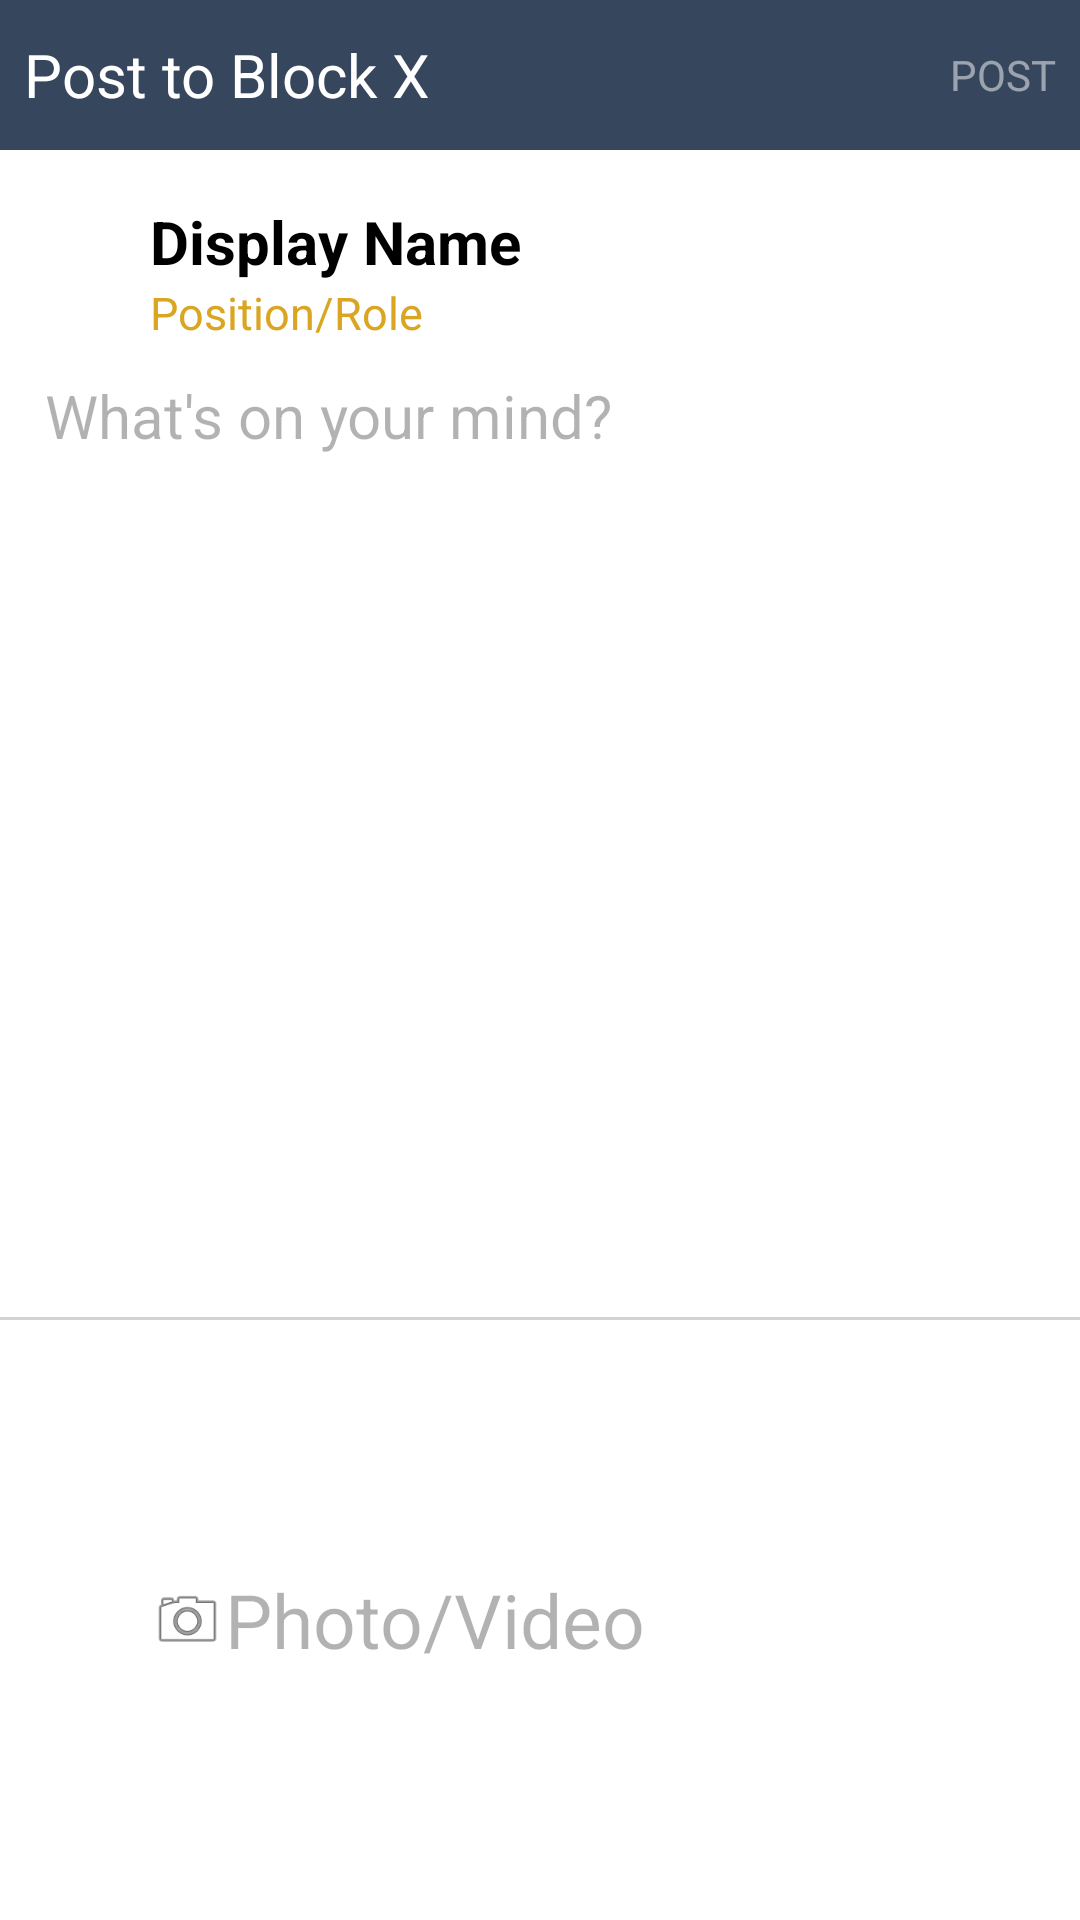

Point at icon controls on the screen. Image size 1080×1920, points as [x,y].
camera: [187,1619]
